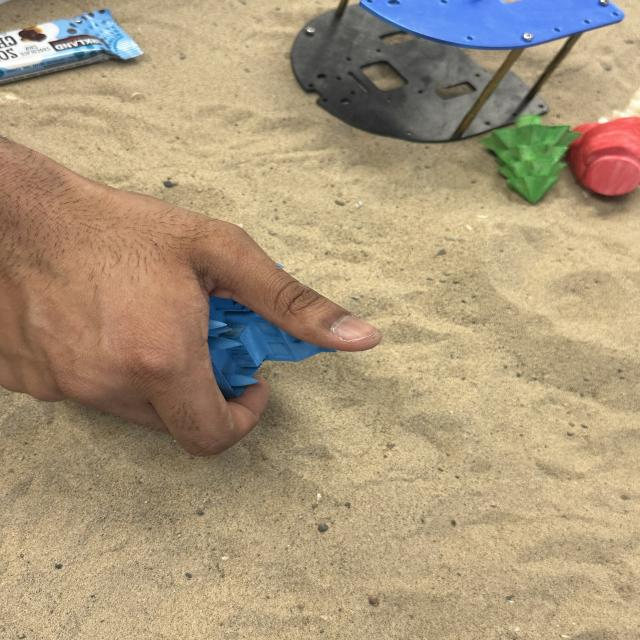fire: (571, 116, 640, 201)
house: (210, 283, 321, 384)
tree: (477, 113, 582, 205)
